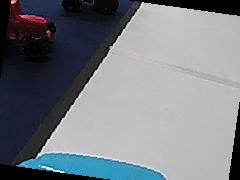Tracktor: (6, 0, 58, 63), (92, 1, 119, 17)
